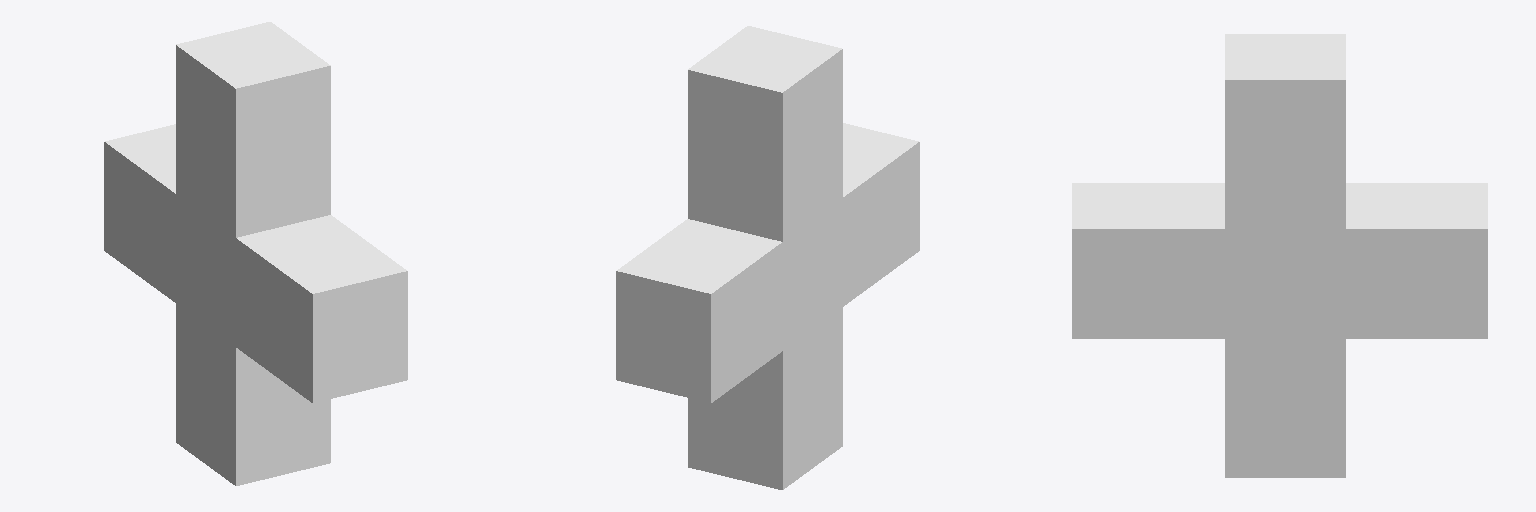
File: HealthPack.obj
3 renders of one model, left to right at view 1: azimuth 30°, elevation 25°; view 2: azimuth 150°, elevation 25°; view 3: azimuth 270°, elevation 25°, orthographic.
Parts seen in each view (by area): view 1: object 1; view 2: object 1; view 3: object 1.
Part boxes in pixels (x1,y1,x2,y2): object 1: (104, 22, 407, 485); object 1: (616, 26, 919, 489); object 1: (1072, 34, 1487, 477).
Bounding box in the file's own units: 1 × 4 × 3.8.